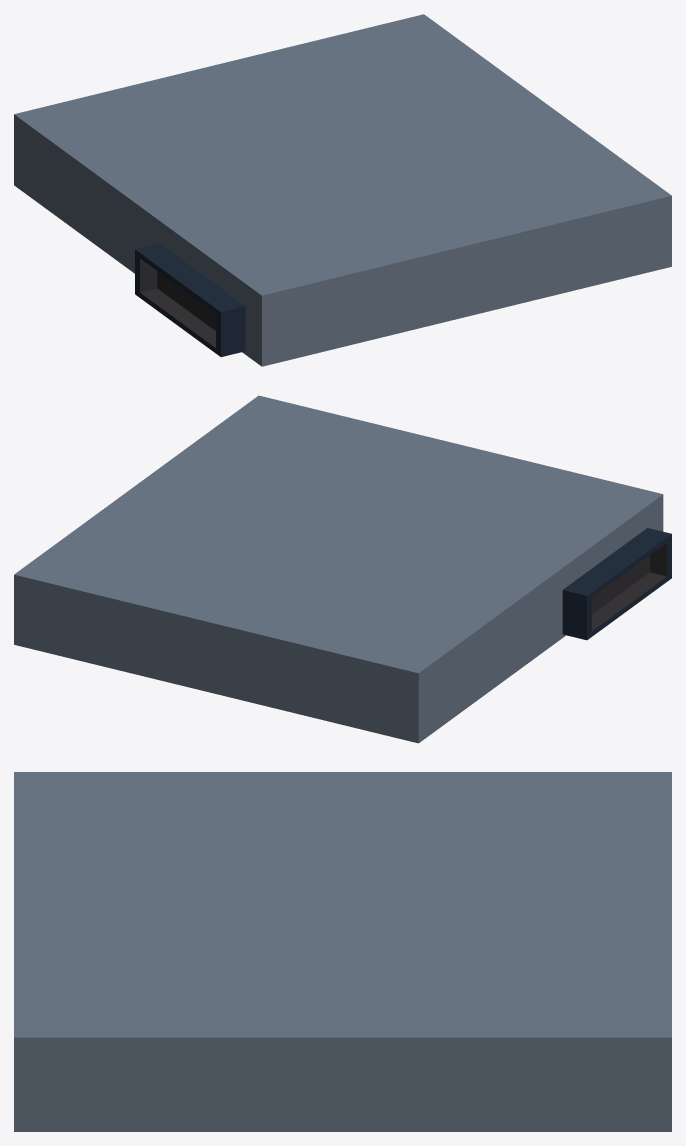
The model's file is HardDisk 1.glb.
3 renders of one model, top to bottom at view 1: azimuth 30°, elevation 25°; view 2: azimuth 150°, elevation 25°; view 3: azimuth 270°, elevation 25°, orthographic. The views are drawn at different scales.
Parts seen in each view (by area): view 1: Cube.152, Cube.153; view 2: Cube.152, Cube.153; view 3: Cube.152.
Boxes of the visible parts, left/top/right/bottom form: Cube.152: left=14, top=14, right=671, bottom=366; Cube.153: left=135, top=243, right=245, bottom=356; Cube.152: left=14, top=395, right=663, bottom=743; Cube.153: left=562, top=528, right=671, bottom=640; Cube.152: left=14, top=772, right=671, bottom=1131.
Size of the model in its own units: 0.1042 by 0.0163 by 0.1029.
Materials: 1 (1 with a texture image).
